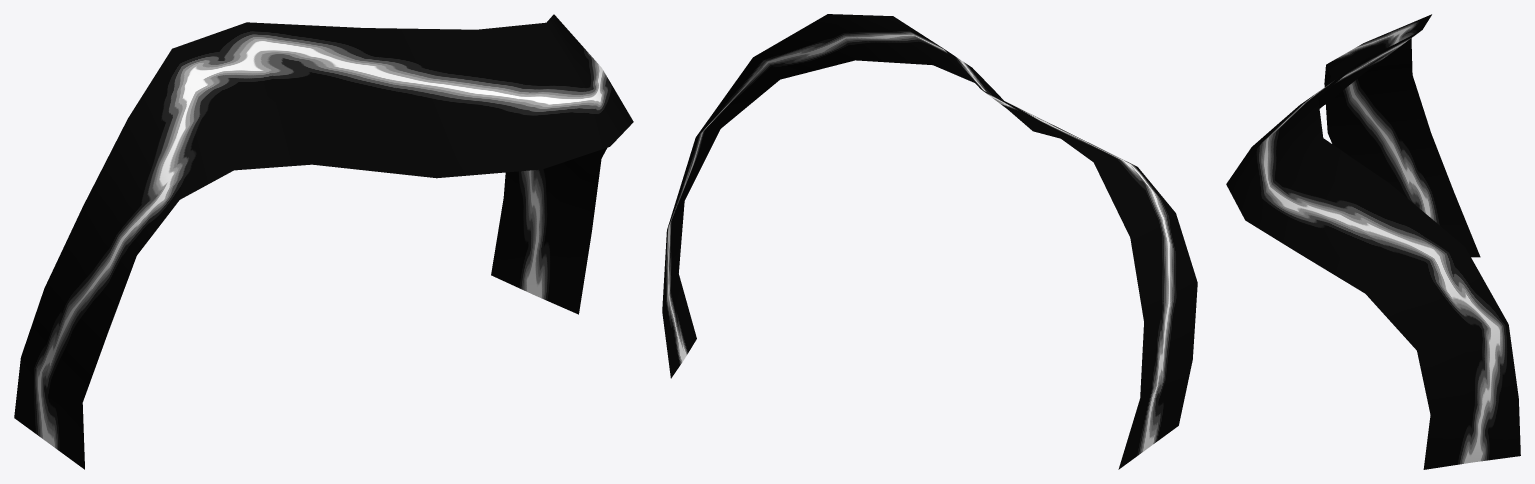
File: ThunderCurveMesh5.fbx
3 renders of one model, left to right at view 1: azimuth 30°, elevation 25°; view 2: azimuth 150°, elevation 25°; view 3: azimuth 270°, elevation 25°, orthographic. The views are drawn at different scales.
Visible parts, largest first — view 1: ThunderCurveMesh_Basic_L; view 2: ThunderCurveMesh_Basic_L; view 3: ThunderCurveMesh_Basic_L.
Boxes of the visible parts, left/top/right/bottom form: ThunderCurveMesh_Basic_L: left=14, top=14, right=633, bottom=469; ThunderCurveMesh_Basic_L: left=662, top=14, right=1197, bottom=469; ThunderCurveMesh_Basic_L: left=1226, top=14, right=1520, bottom=469.
Bounding box in the file's own units: 209 × 134 × 116.
Materials: 1 (1 with a texture image).
